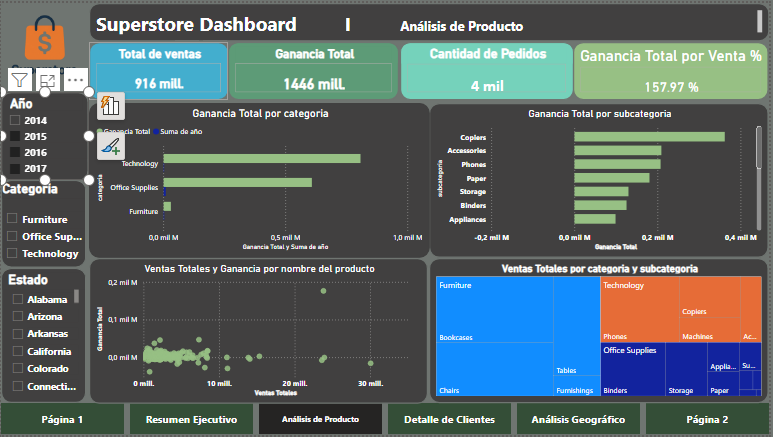

This screenshot's page, from the dashboard's own definition file:
{"tool":"powerbi","page":{"name":"Análisis de Producto","canvas":[1280,720],"ordinal":2},"visuals":[{"type":"image","box":[0,0,146.3,147.8],"z":0},{"type":"slicer","fields":{"Values":["superstore_procesado.año"]},"box":[0,147.8,146.3,147.8],"z":1000},{"type":"slicer","title":"Categoria","fields":{"Values":["superstore_procesado.categoria"]},"box":[0,295.6,142,146.3],"z":2000},{"type":"slicer","title":"Estado","fields":{"Values":["superstore_procesado.estado"]},"box":[0,442,142,225.4],"z":3000},{"type":"pageNavigator","box":[0,667.3,1280.5,52.7],"z":4000},{"type":"cardVisual","title":"Total de ventas","fields":{"Data":["superstore_procesado.Ventas Totales"]},"box":[146.3,64.4,232.7,96.6],"z":5000},{"type":"cardVisual","title":"Ganancia Total","fields":{"Data":["superstore_procesado.Ganancia Total"]},"box":[379,64.4,285.4,96.6],"z":6000},{"type":"cardVisual","title":"Cantidad de Pedidos","fields":{"Data":["superstore_procesado.Cantidad de Pedidos"]},"box":[664.4,64.4,289.8,96.6],"z":7000},{"type":"cardVisual","title":"Ganancia Total por Venta %","fields":{"Data":["superstore_procesado.Ganancia por Venta (%)"]},"box":[954.1,64.4,326.3,96.6],"z":8000},{"type":"textbox","box":[146.3,0,1134.1,64.4],"z":9000},{"type":"pageNavigator","box":[0,667.3,1280.5,52.7],"z":10000},{"type":"clusteredBarChart","fields":{"Category":["superstore_procesado.subcategoria"],"Y":["superstore_procesado.Ganancia Total"]},"box":[712.7,166.8,566.3,257.6],"z":11000},{"type":"clusteredBarChart","title":"Ganancia Total  por categoria","fields":{"Y":["superstore_procesado.Ganancia Total","Sum(superstore_procesado.año)"],"Category":["superstore_procesado.categoria"]},"box":[146.3,166.8,567.8,257.6],"z":12000},{"type":"scatterChart","title":"Ventas Totales y Ganancia por nombre del producto","fields":{"X":["superstore_procesado.Ventas Totales"],"Y":["superstore_procesado.Ganancia Total"],"Category":["superstore_procesado.nombre_producto"]},"box":[146.3,424.4,564.9,242.9],"z":13000},{"type":"treemap","fields":{"Group":["superstore_procesado.categoria"],"Details":["superstore_procesado.subcategoria"],"Values":["superstore_procesado.Ventas Totales"]},"box":[713,425,566,242],"z":14000}]}

Visuals, with their boxes on the page's 1280x720 design canvas (x1, y1, x2, y2). These are canvas units, not pixel positions in the 773x437 screenshot, which may show the page scaled, cropped or inside an application window:
image: rect(0, 0, 146, 148)
slicer - superstore_procesado.año: rect(0, 148, 146, 296)
"Categoria" slicer: rect(0, 296, 142, 442)
"Estado" slicer: rect(0, 442, 142, 667)
pageNavigator: rect(0, 667, 1280, 720)
"Total de ventas" cardVisual: rect(146, 64, 379, 161)
"Ganancia Total" cardVisual: rect(379, 64, 664, 161)
"Cantidad de Pedidos" cardVisual: rect(664, 64, 954, 161)
"Ganancia Total por Venta %" cardVisual: rect(954, 64, 1280, 161)
textbox: rect(146, 0, 1280, 64)
pageNavigator: rect(0, 667, 1280, 720)
clusteredBarChart - superstore_procesado.subcategoria x superstore_procesado.Ganancia Total: rect(713, 167, 1279, 424)
"Ganancia Total  por categoria" clusteredBarChart: rect(146, 167, 714, 424)
"Ventas Totales y Ganancia por nombre del producto" scatterChart: rect(146, 424, 711, 667)
treemap - superstore_procesado.categoria x superstore_procesado.subcategoria: rect(713, 425, 1279, 667)
